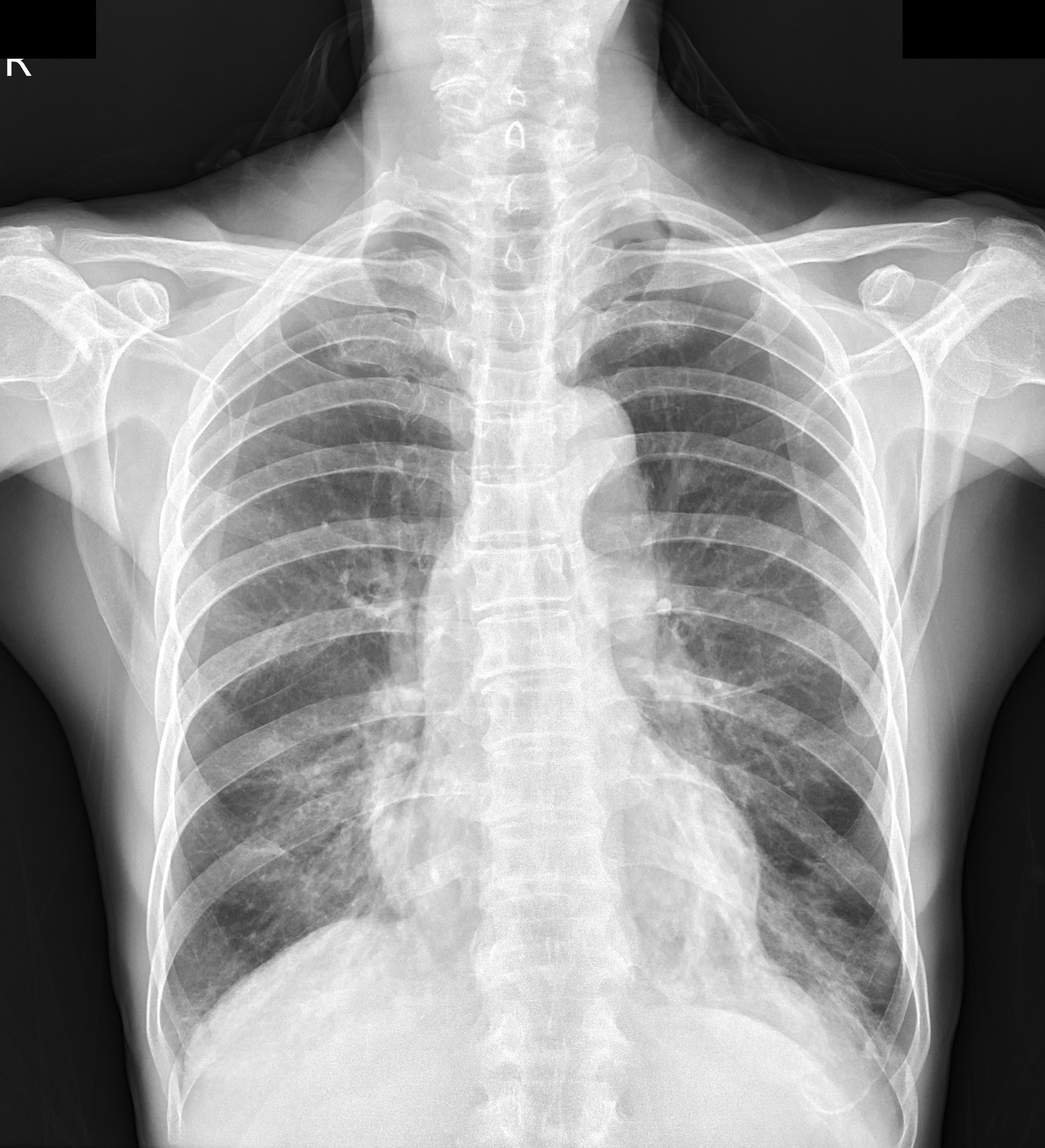Pulmonary fibrosis: (252, 725, 392, 921), (777, 876, 895, 1011)
